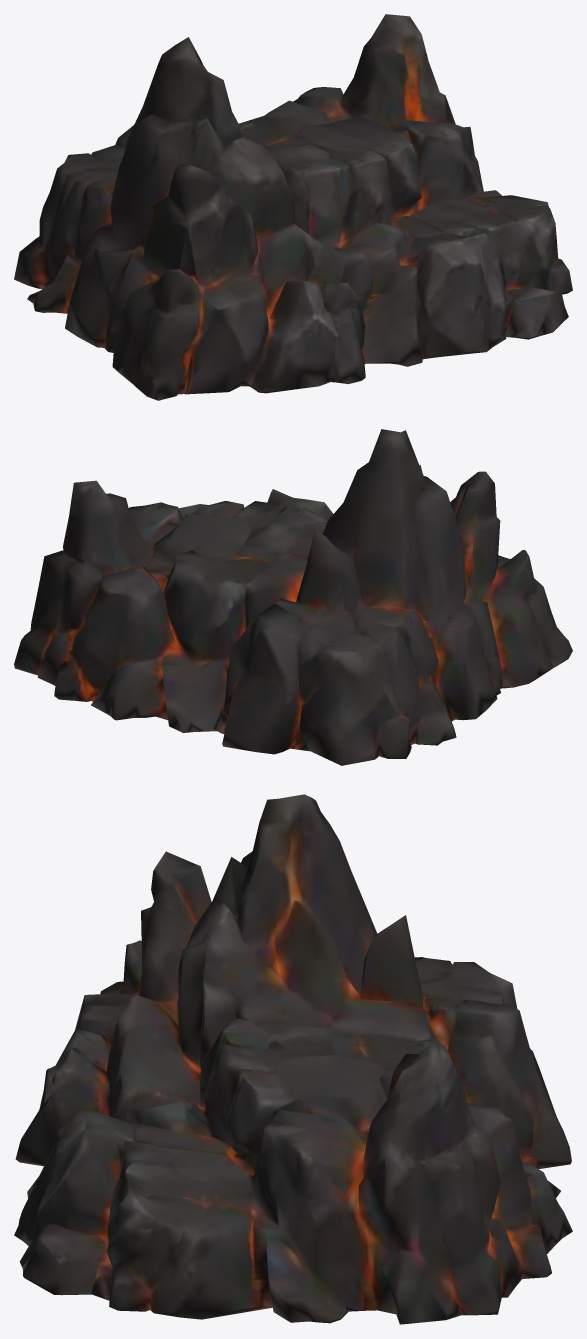
Rendered from rock_outcrop.glb.
3 views of the same model, one above another, from view 1: azimuth 30°, elevation 25°; view 2: azimuth 150°, elevation 25°; view 3: azimuth 270°, elevation 25° (orthographic). The views are drawn at different scales.
Parts seen in each view (by area): view 1: tripo_node_cad07bcc-7fe2-4bc9-80e5-b59e5b4d1b3c; view 2: tripo_node_cad07bcc-7fe2-4bc9-80e5-b59e5b4d1b3c; view 3: tripo_node_cad07bcc-7fe2-4bc9-80e5-b59e5b4d1b3c.
Part boxes in pixels (bbox=[...]): tripo_node_cad07bcc-7fe2-4bc9-80e5-b59e5b4d1b3c: bbox=[14, 14, 572, 400]; tripo_node_cad07bcc-7fe2-4bc9-80e5-b59e5b4d1b3c: bbox=[14, 429, 572, 765]; tripo_node_cad07bcc-7fe2-4bc9-80e5-b59e5b4d1b3c: bbox=[14, 794, 572, 1324].
Size of the model in its own units: 5.17 by 3 by 4.54.
1 material, 1 textured.
